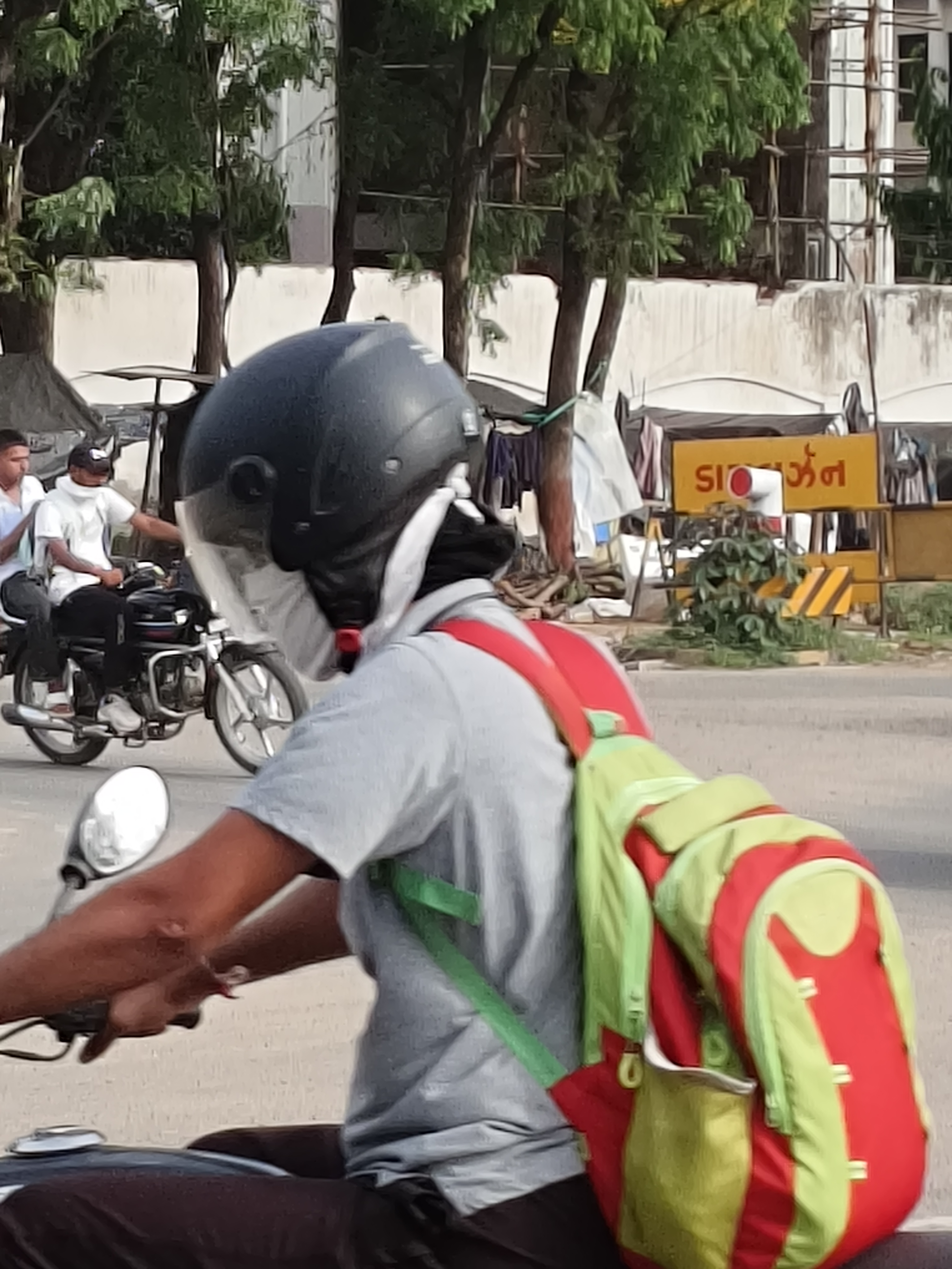BikeWithRider: (5, 314, 952, 1269), (0, 414, 335, 780)
Helmet: (164, 307, 538, 686)
NoHelmet: (58, 426, 122, 499), (0, 421, 35, 492)
